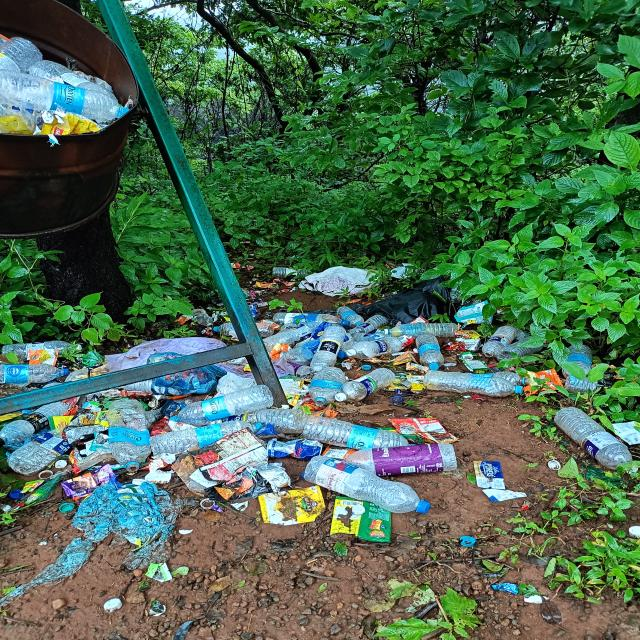garbage: (0, 304, 580, 525), (6, 27, 166, 175)
